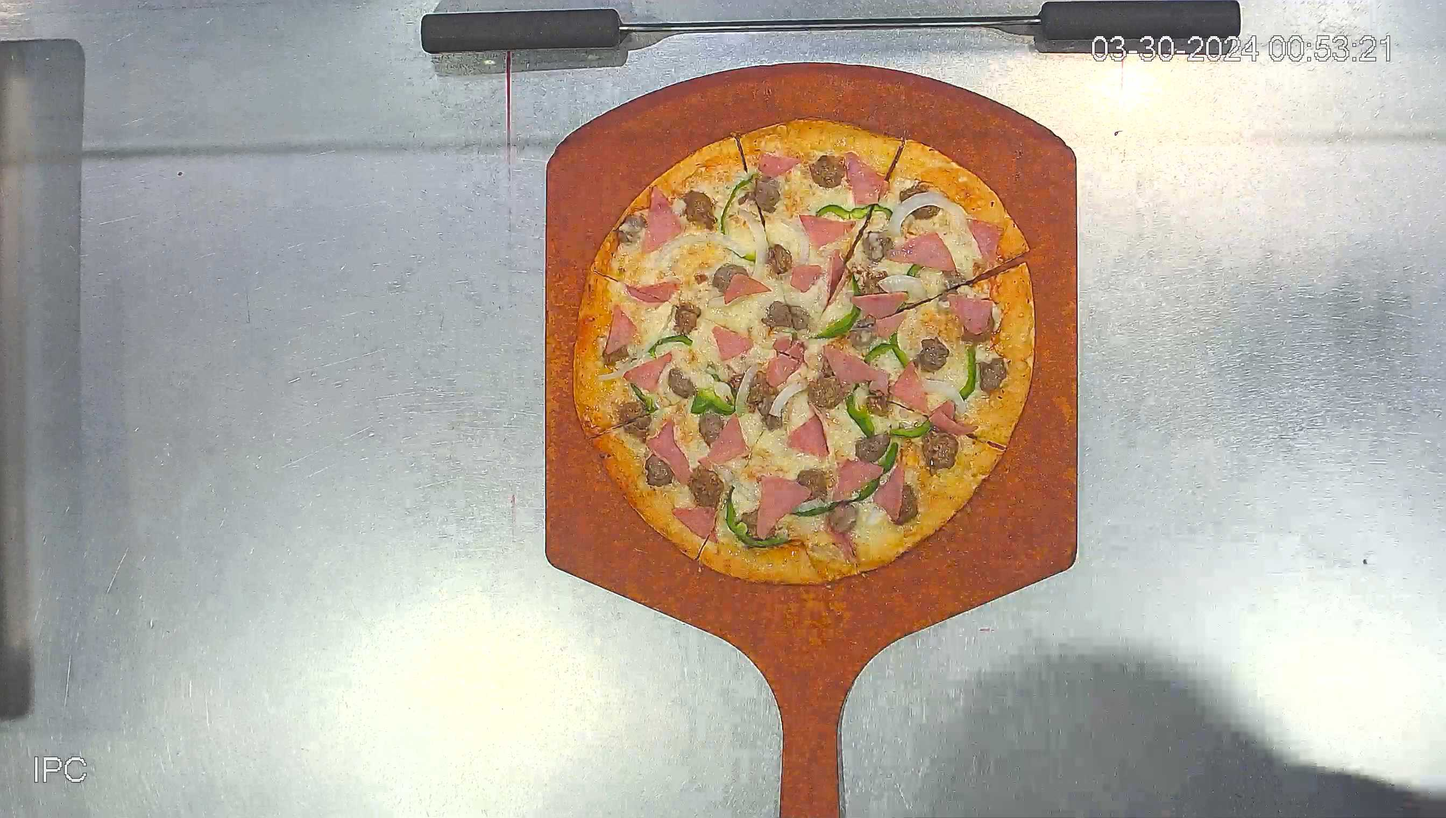hawaiian: (570, 118, 1039, 585)
